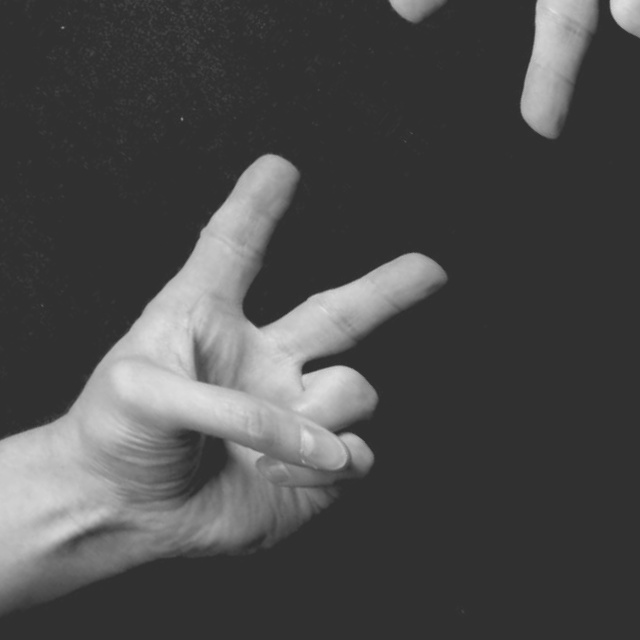Scissors: (0, 0, 25, 261)
